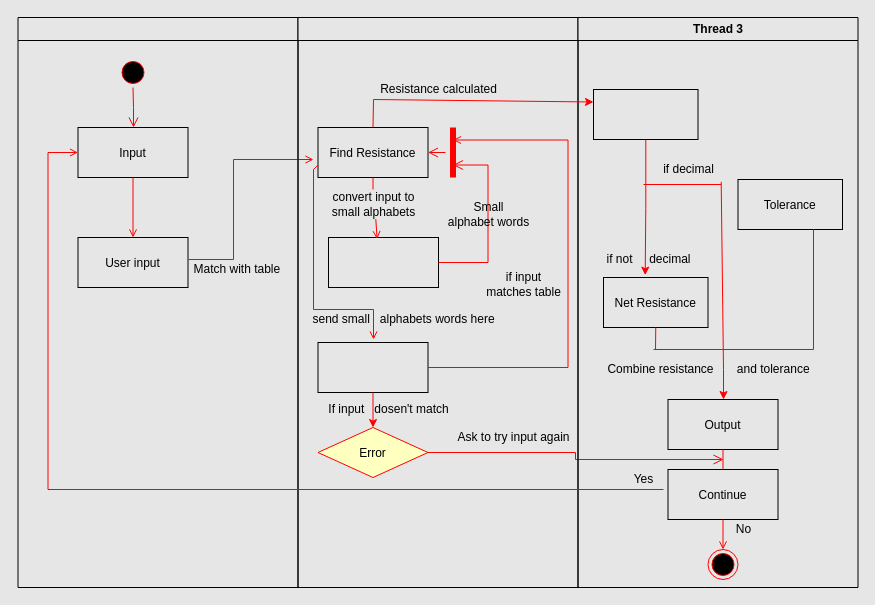
The diagram is 875 pixels wide and 605 high, and some of its shapes have lost their labels. The box of each missing label's shape, as (x1, y1, x2, y2) in pixels:
Compare: (317, 342, 428, 392)
Resistance: (592, 88, 698, 140)
Small alphabets: (328, 236, 438, 288)
Thread 1: (17, 16, 298, 588)
Thread 2: (297, 16, 578, 588)
